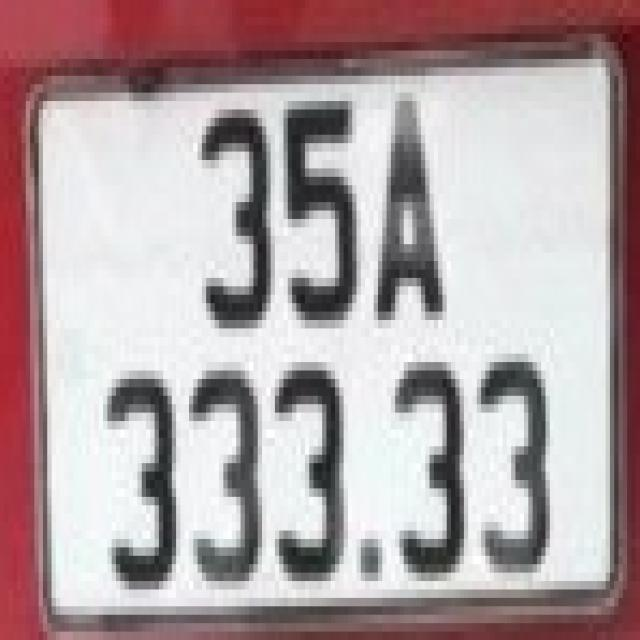3: (93, 357, 185, 593), (272, 346, 352, 588), (188, 358, 271, 591), (389, 347, 470, 581), (476, 350, 556, 580), (198, 94, 271, 343)
5: (276, 90, 362, 344)
A: (376, 92, 452, 340)
